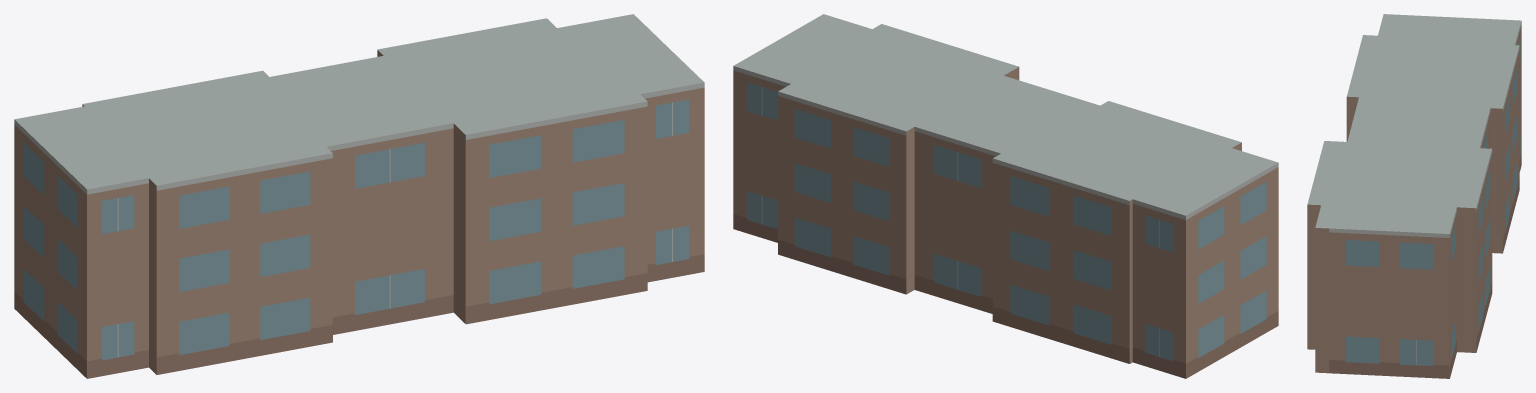
The model's file is survey-upis-32807660.glb.
3 views of the same model, side by side, from view 1: azimuth 30°, elevation 25°; view 2: azimuth 150°, elevation 25°; view 3: azimuth 270°, elevation 25° (orthographic). The views are drawn at different scales.
Parts seen in each view (by area): view 1: survey-upis-32807660.tmp; view 2: survey-upis-32807660.tmp; view 3: survey-upis-32807660.tmp.
Boxes of the visible parts, x1,y1,x2,y2 form: survey-upis-32807660.tmp: (14, 14, 704, 378); survey-upis-32807660.tmp: (733, 14, 1278, 378); survey-upis-32807660.tmp: (1307, 14, 1521, 378).
Size of the model in its own units: 29.84 by 9.15 by 12.28.
